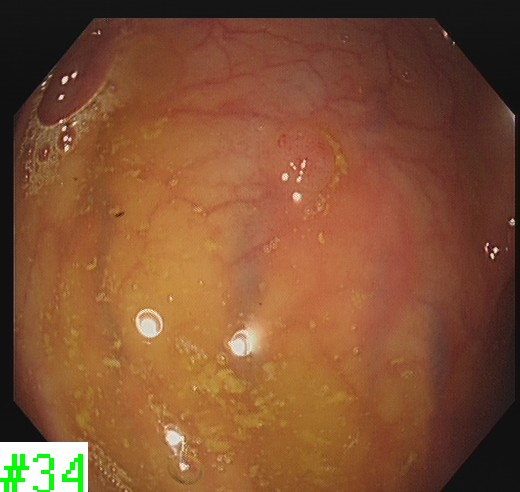others: (269, 125, 339, 195)
